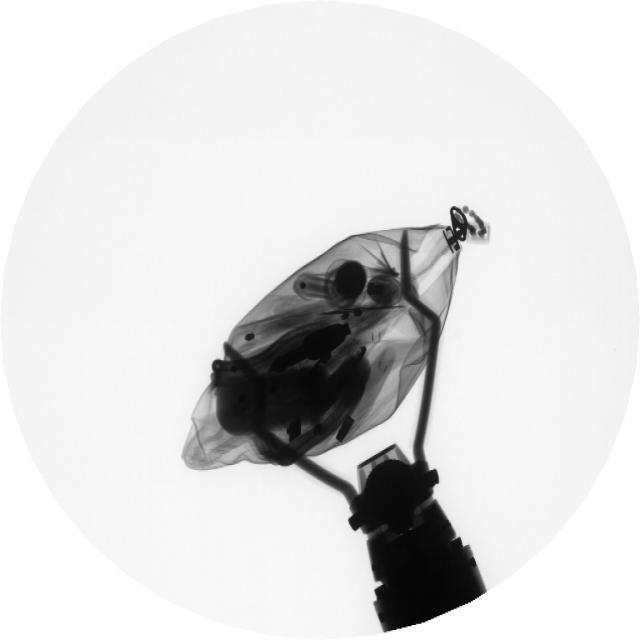BLADE: (317, 300, 410, 310), (320, 312, 323, 318), (408, 303, 409, 310)
